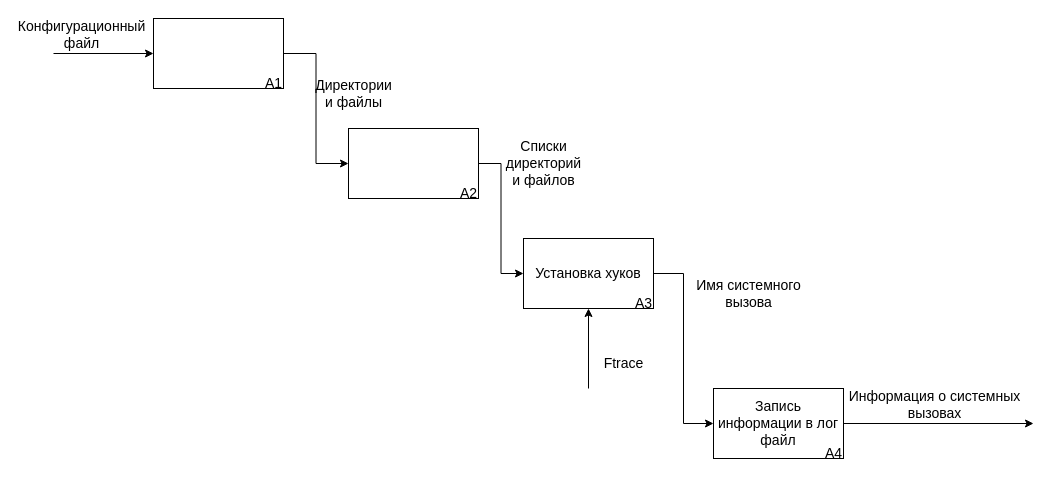
Image size: 1059x486. Some labels were removed from this diagram. The box of each missing label's shape, as (x1, y1, x2, y2) in pixels:
Инициализация списков директори и файлов для отслеживания: (348, 128, 478, 198)
Чтение конфигурационного файла: (152, 18, 284, 88)
